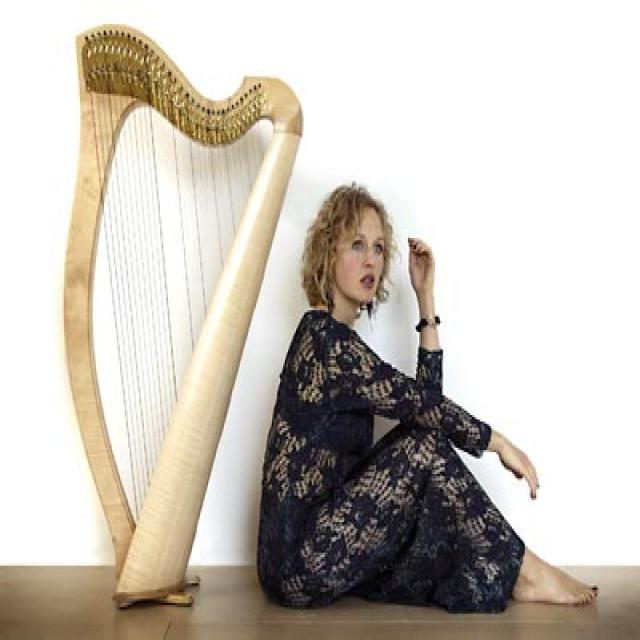harp: (59, 19, 306, 614)
